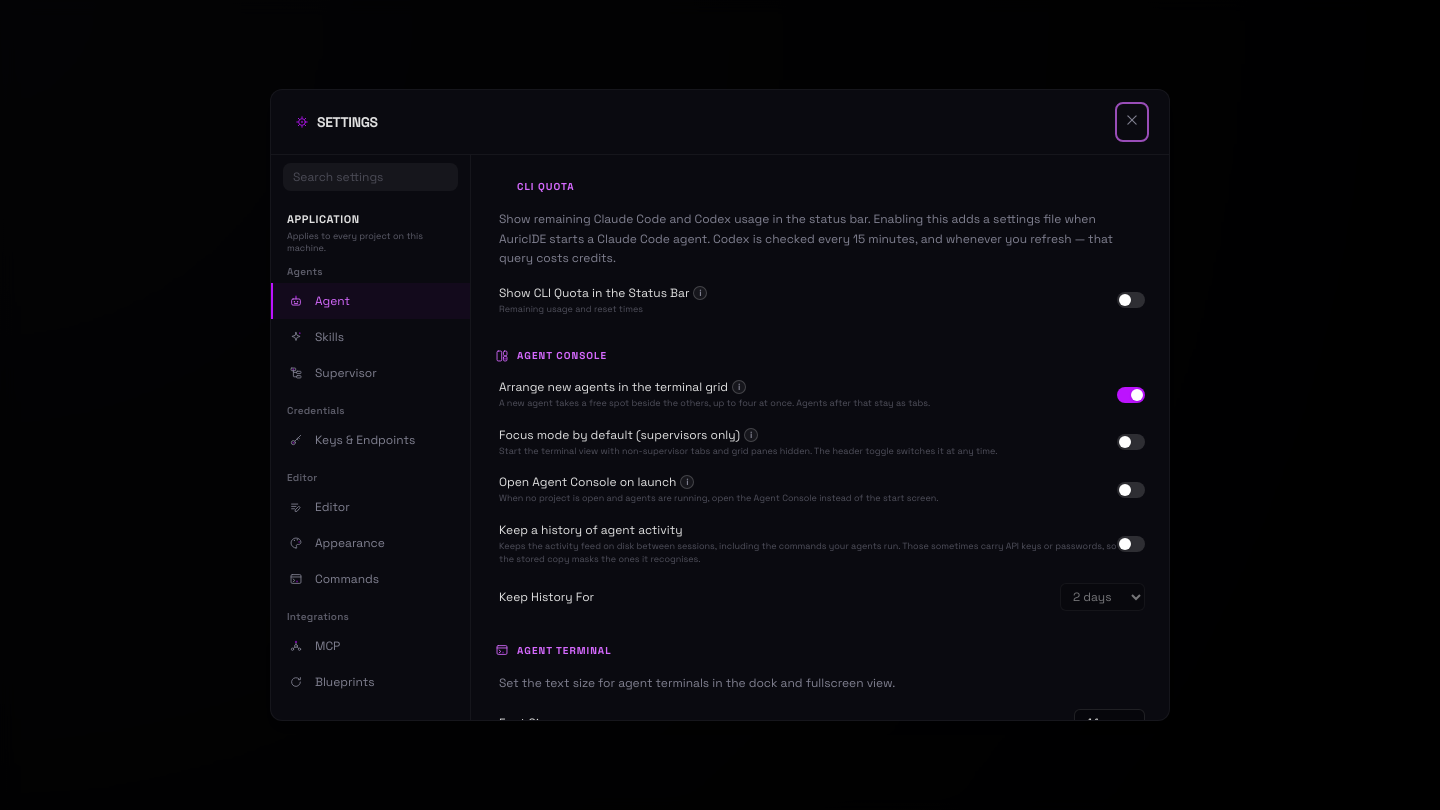
Test case: SettingsModal – Category Navigation › clicking Commands nav switches content
Click the button with test id "settings-nav-commands" at (370, 579), box [271,561,470,597]
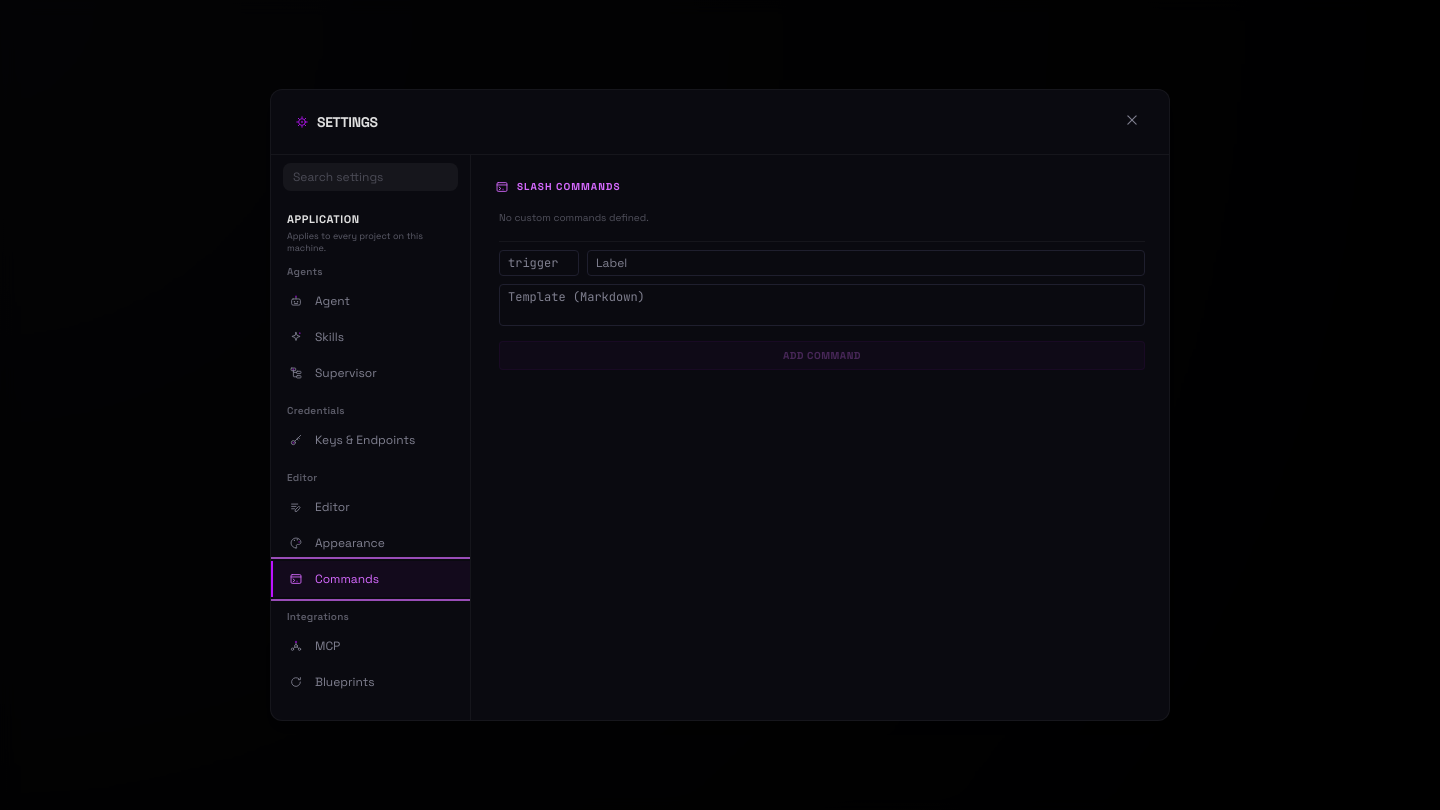
Check: the heading "Slash Commands" is shown, box [517,179,621,194]
